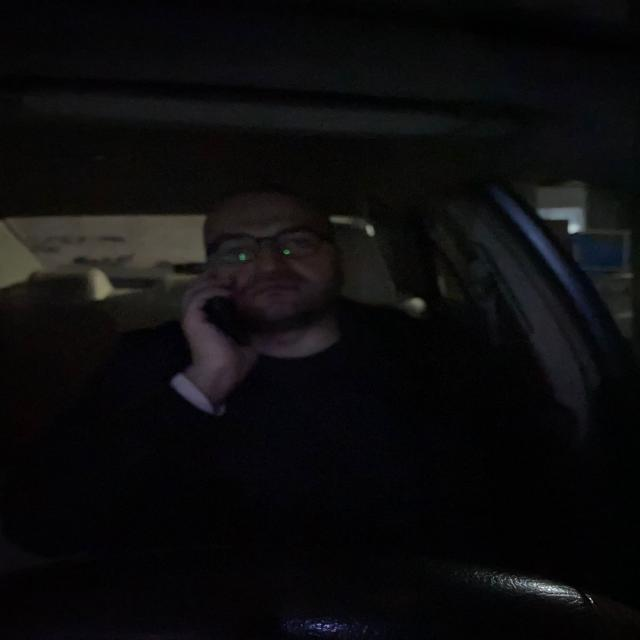person: (201, 180, 359, 349)
